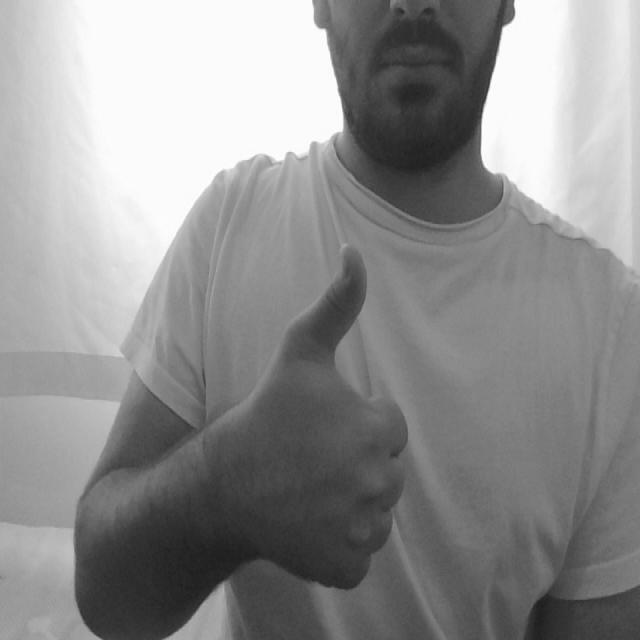Tamam: (233, 236, 412, 605)
